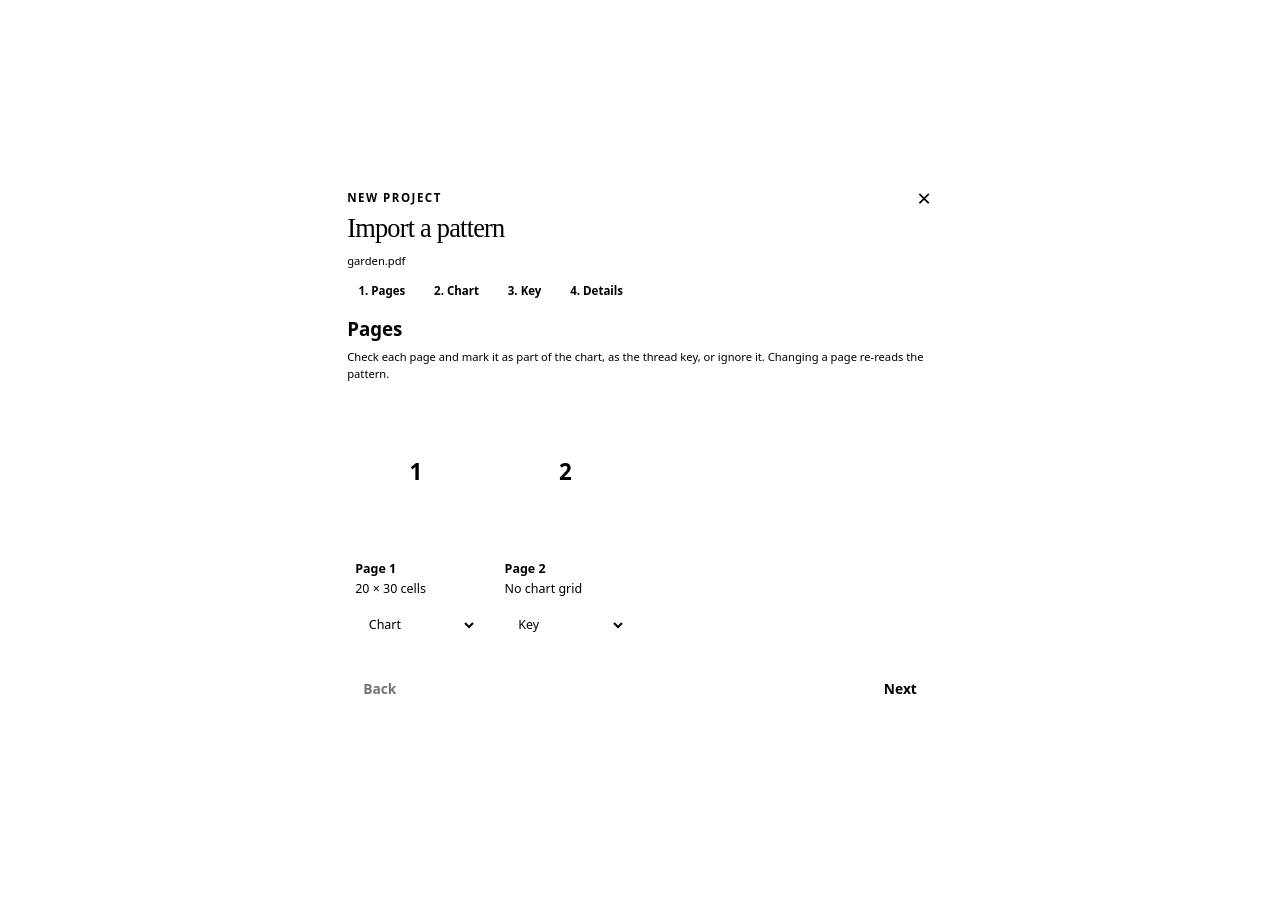
Test: ImportReviewDialog › explains an empty chart and blocks creation
Select "Ignore" in the dropdown named "Role of page 2" below "No chart grid": (565, 625) [505,606,626,644]
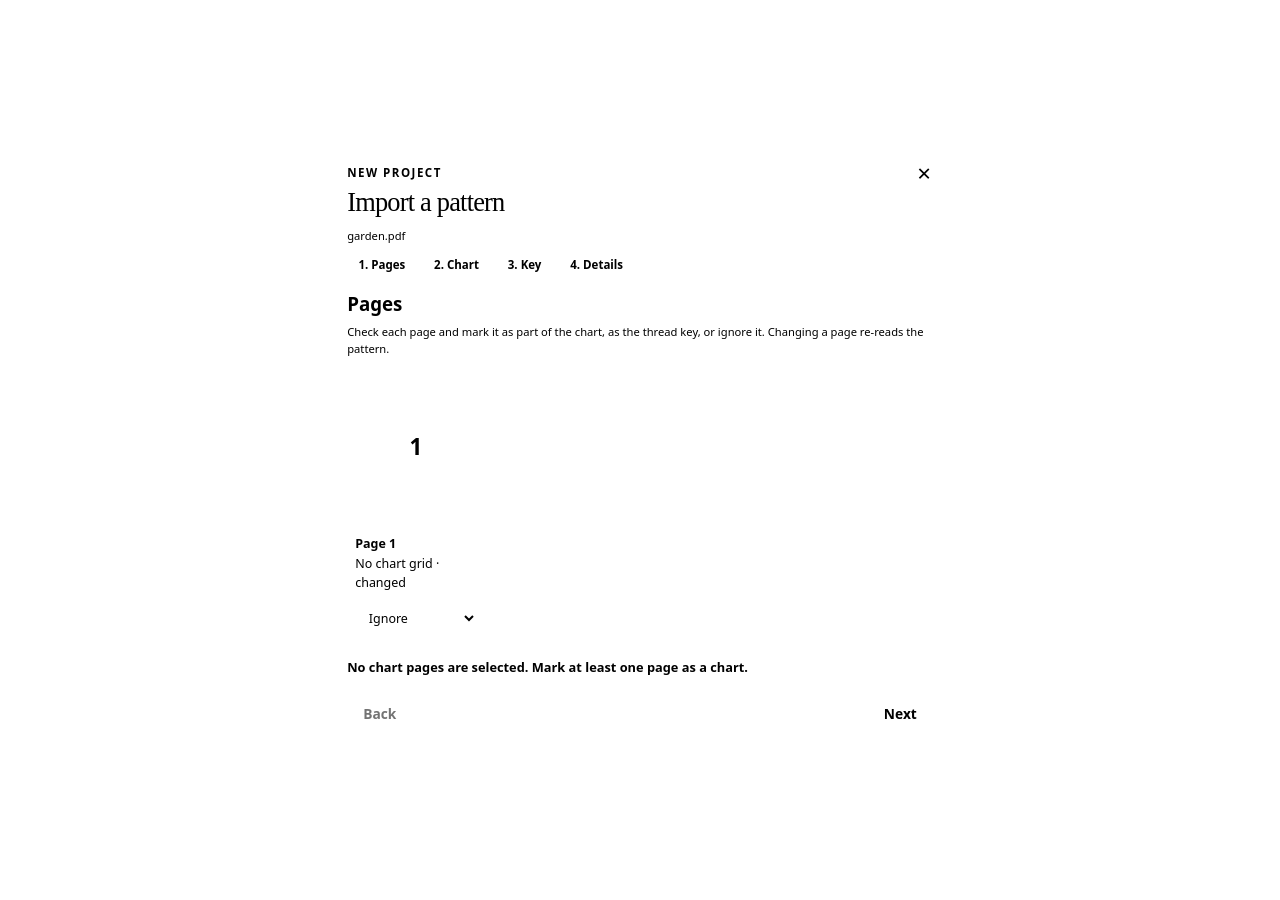
Expected: the text "No chart pages are selected. Mark at least one page as a chart." is shown, [347,658,748,676]
Click the button "Next": (900, 715) [868,693,933,736]
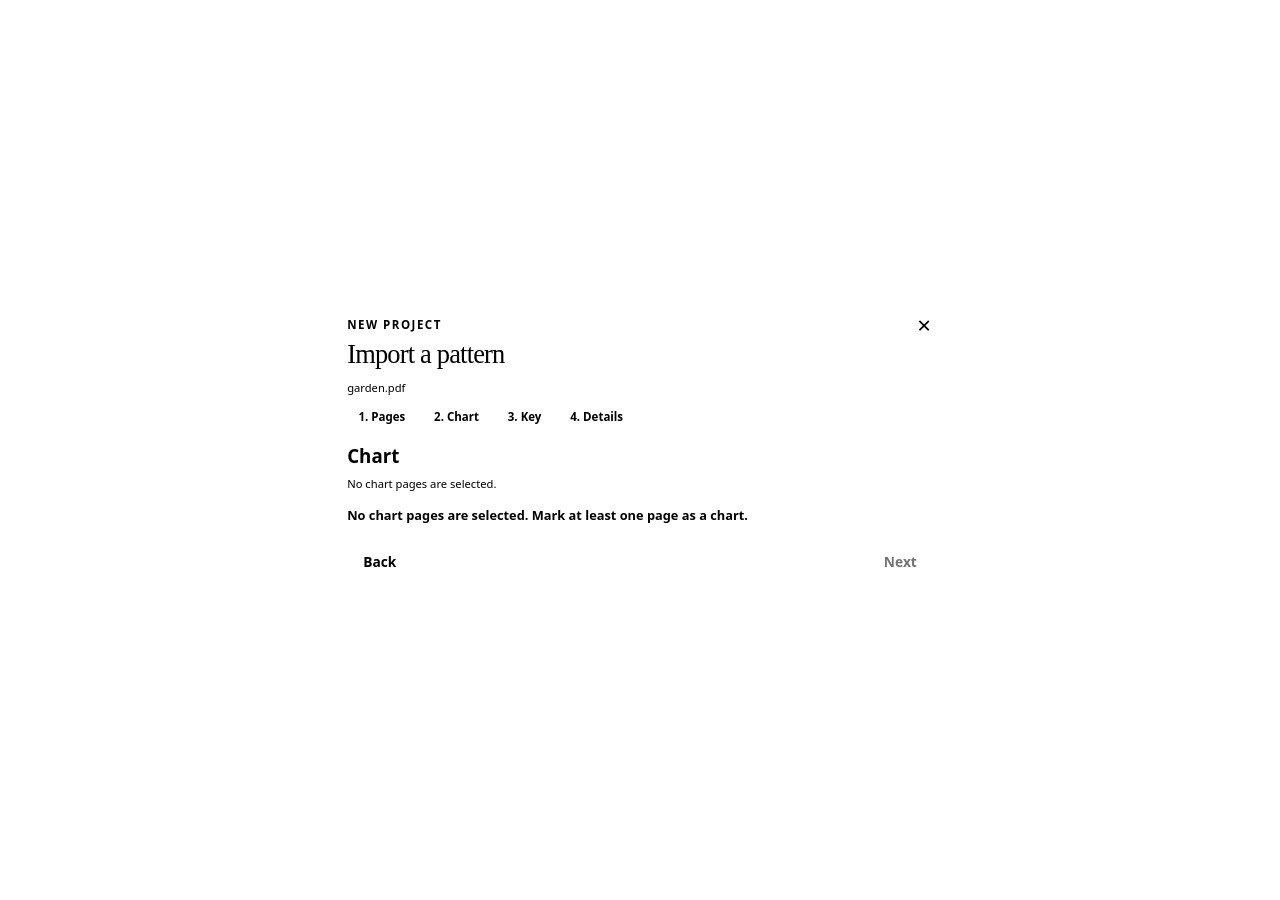
Expected: the button "Next" is disabled, [868,541,933,584]
